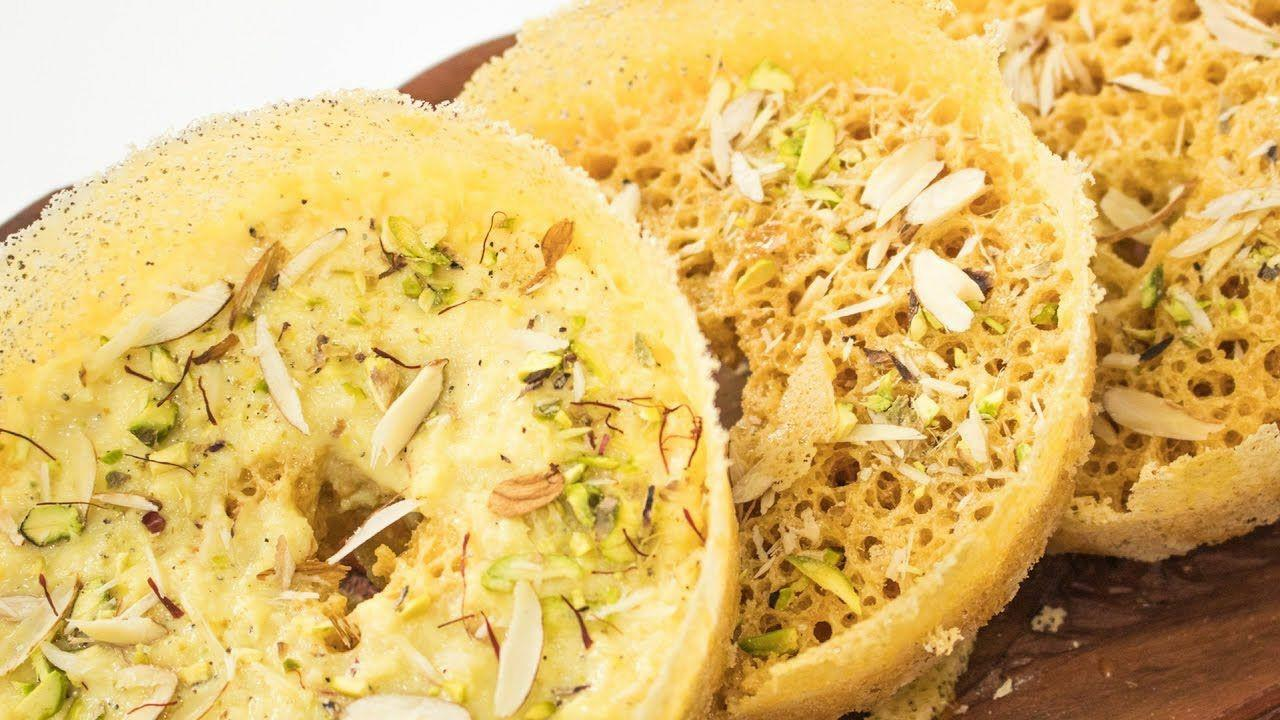Ghevar: (442, 0, 1107, 720), (0, 83, 742, 720), (964, 0, 1280, 562)
